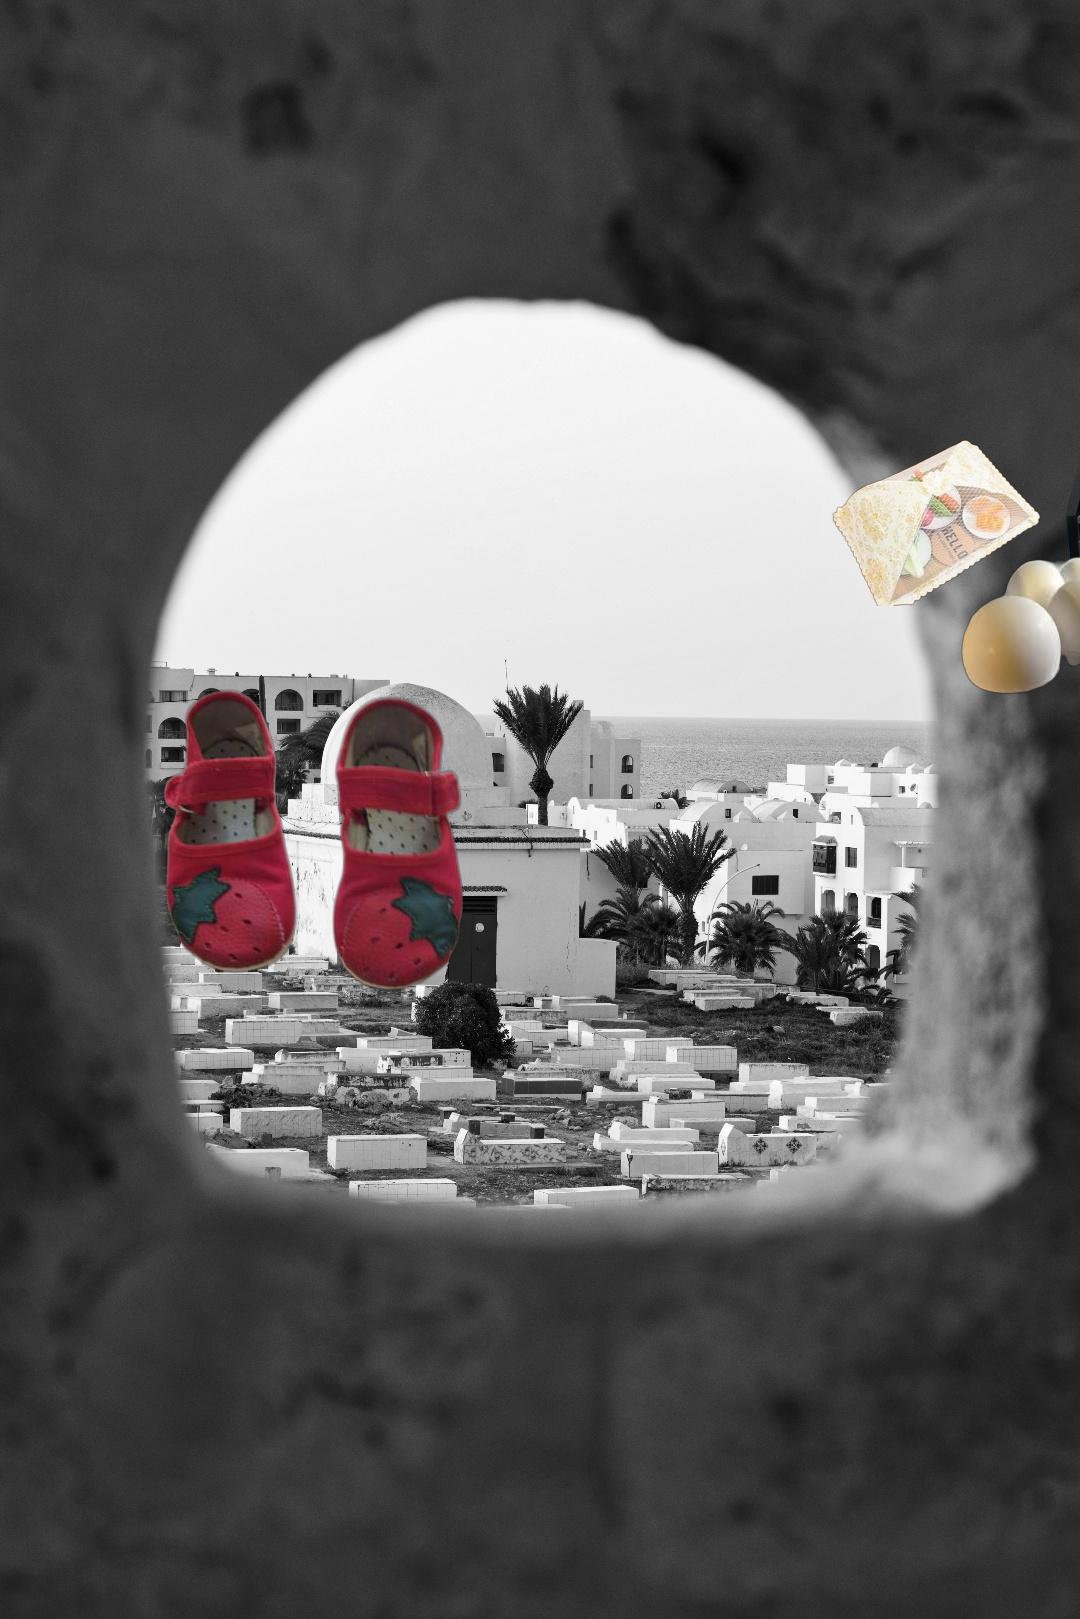biological: (826, 438, 1043, 606), (959, 550, 1080, 706)
plastic-bottles: (1078, 315, 1080, 626)
shoes: (162, 685, 466, 995)
trashbox-cardboard: (1058, 304, 1080, 712)
